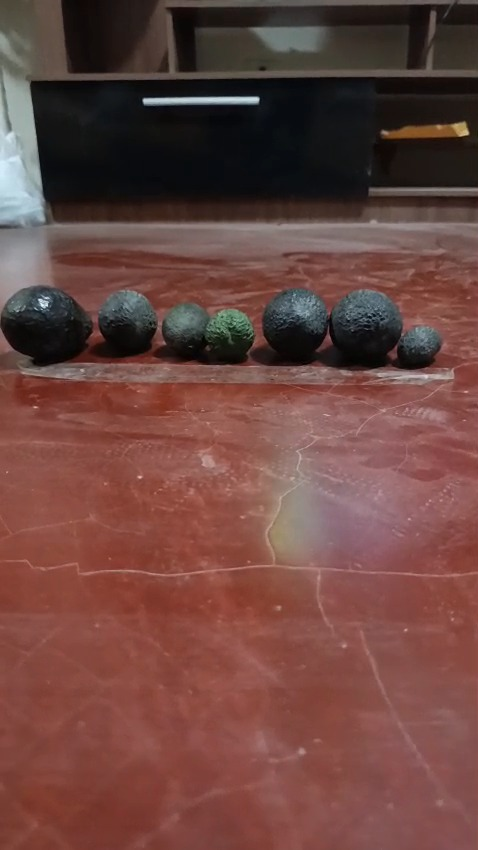Primera: (0, 284, 93, 363), (329, 288, 402, 363), (262, 287, 329, 359), (97, 289, 158, 354)
Segunda: (204, 308, 256, 363), (160, 302, 210, 357), (395, 324, 441, 369)
